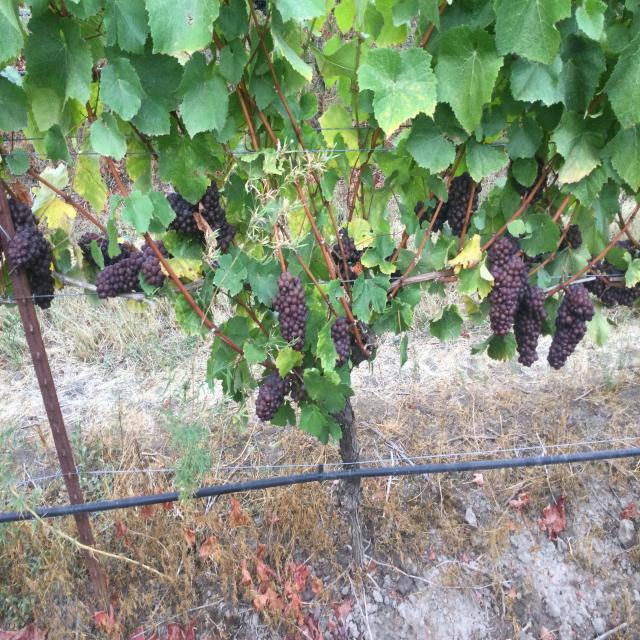grapes: (8, 198, 54, 308), (488, 237, 529, 338), (548, 283, 595, 368), (272, 272, 308, 350), (514, 285, 548, 367), (201, 182, 235, 252), (96, 252, 142, 298), (255, 368, 290, 422), (168, 193, 205, 243), (79, 232, 130, 267), (584, 278, 640, 308), (448, 172, 471, 237), (141, 242, 166, 287), (331, 317, 350, 367), (339, 228, 364, 263), (592, 258, 620, 275), (471, 185, 481, 215), (155, 240, 168, 258), (332, 243, 341, 262)
